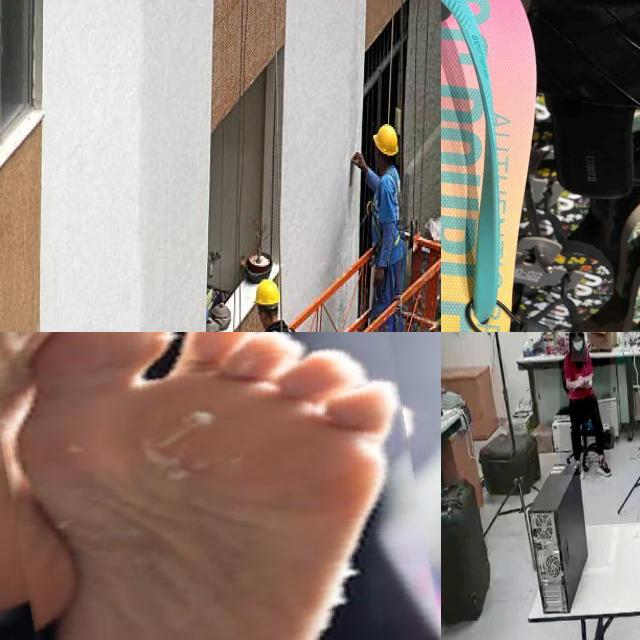Barefoots: (0, 332, 441, 640)
Harness: (370, 168, 402, 314)
Sandals: (441, 0, 574, 332)
face_mask: (572, 336, 588, 362)
hand_noglove: (580, 377, 592, 389), (576, 374, 582, 387)
person: (559, 332, 610, 476)
shoes: (593, 448, 613, 478)
